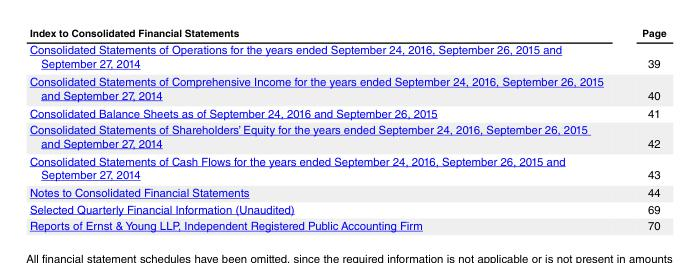table: (28, 28, 665, 232)
table column: (28, 28, 622, 232), (622, 28, 665, 232)
table column header: (28, 28, 665, 42)
table row: (28, 73, 665, 105), (28, 42, 665, 73), (28, 122, 665, 153), (28, 153, 665, 184), (28, 105, 665, 122), (28, 184, 665, 201), (28, 201, 665, 218), (28, 28, 665, 42), (28, 218, 665, 232)
